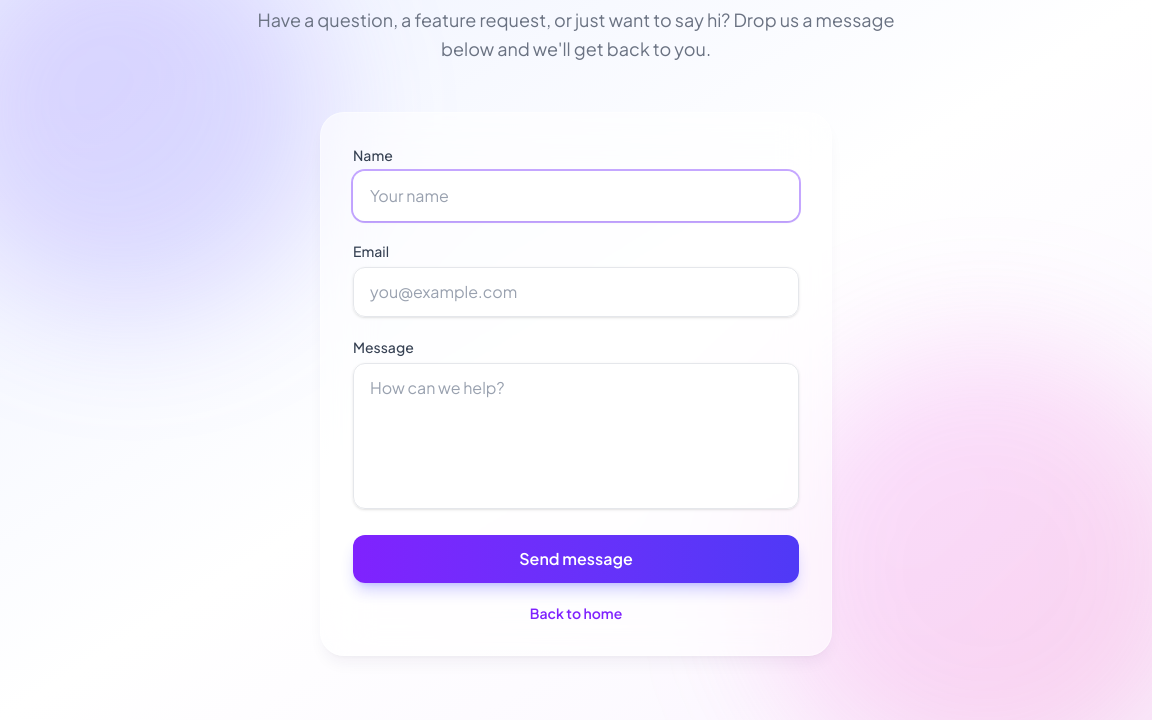
Test: ContactPage › shows error when submitting empty form
The image size is (1152, 720).
(page scrolled)
Click the button "Send message" at (576,558), box [353, 534, 799, 582]
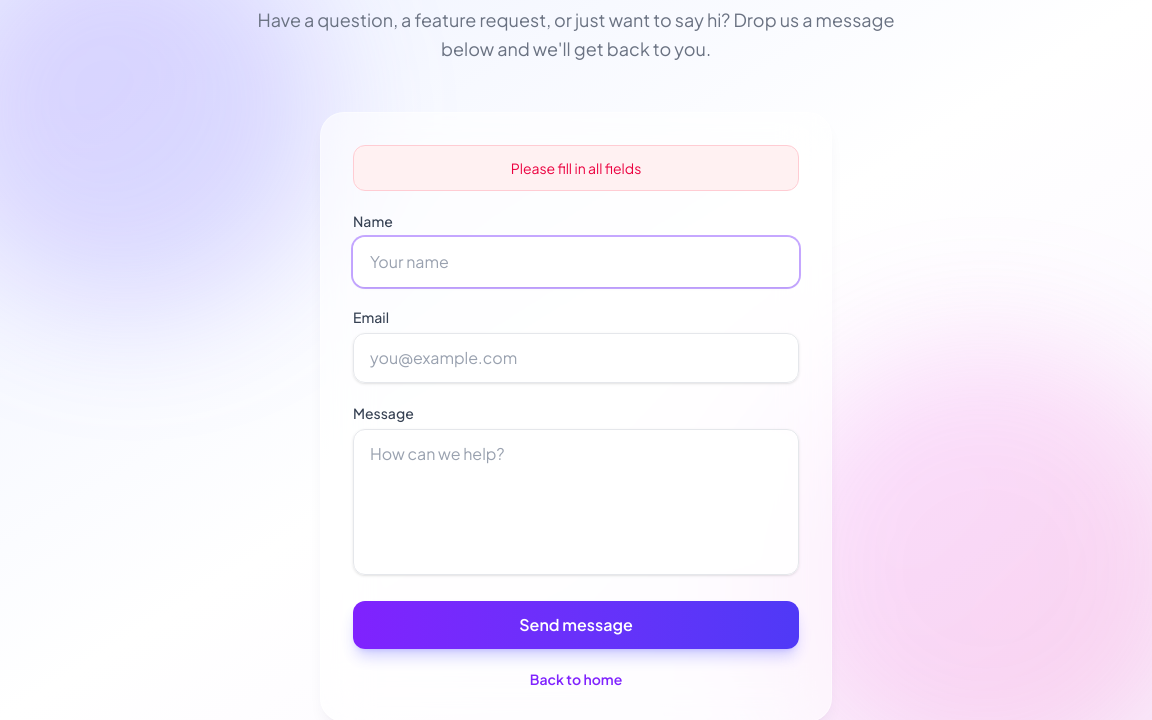
Now the text "Please fill in all fields" is shown, box [353, 144, 799, 190]
